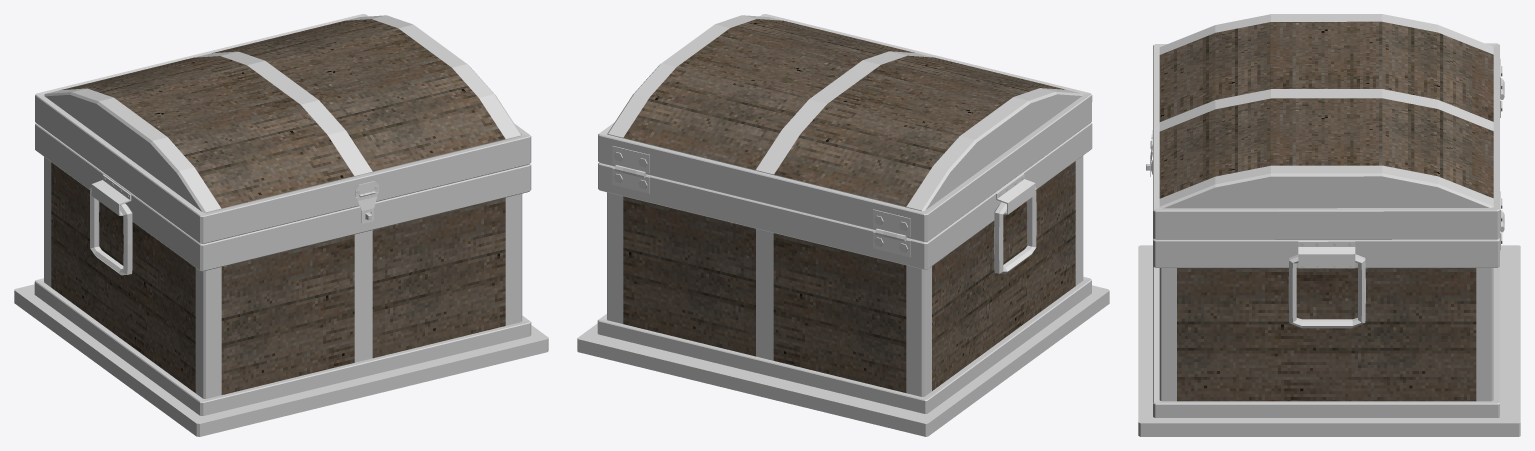
The model's file is IVG 3D Item Chest Basic 1a.fbx.
3 views of the same model, side by side, from view 1: azimuth 30°, elevation 25°; view 2: azimuth 150°, elevation 25°; view 3: azimuth 270°, elevation 25° (orthographic). The views are drawn at different scales.
Visible parts, largest first — view 1: Grove Defense Basic Item Chest; view 2: Grove Defense Basic Item Chest; view 3: Grove Defense Basic Item Chest.
Boxes of the visible parts, x1,y1,x2,y2 form: Grove Defense Basic Item Chest: (14,14,548,436); Grove Defense Basic Item Chest: (577,14,1109,436); Grove Defense Basic Item Chest: (1138,14,1520,436).
Bounding box in the file's own units: 156 × 140 × 103.
